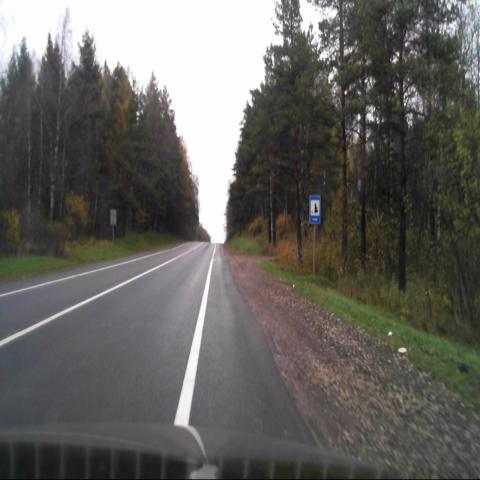7_11: (309, 195, 321, 223)
